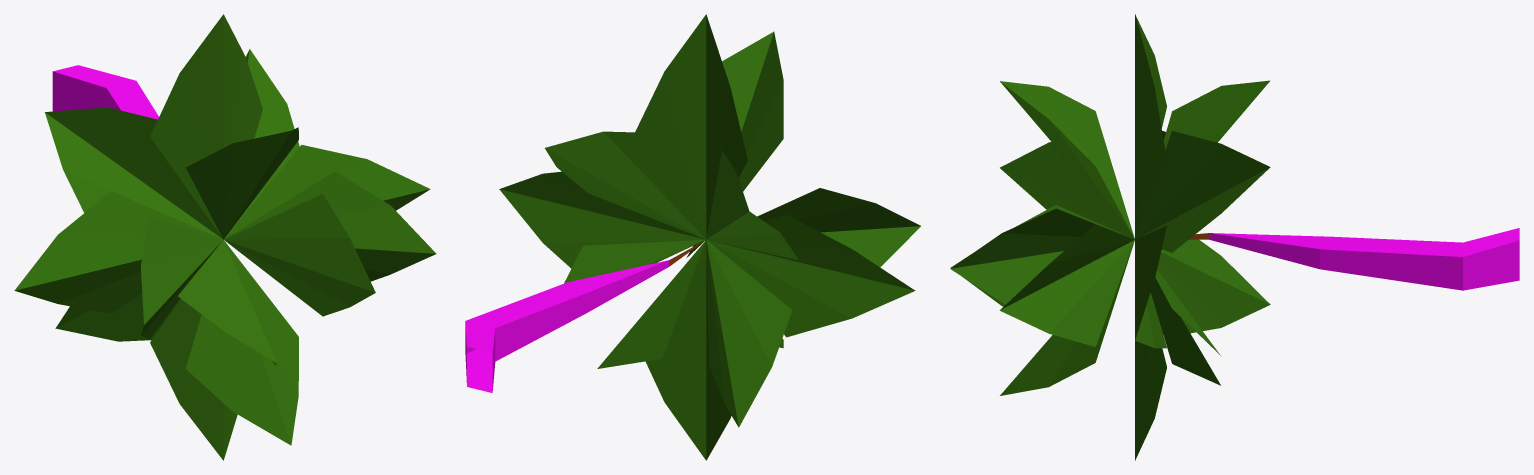
File: exhaustedpalm2.obj
The picture shows the model from 3 angles, left to right: view 1: azimuth 30°, elevation 25°; view 2: azimuth 150°, elevation 25°; view 3: azimuth 270°, elevation 25°; orthographic projection.
Parts seen in each view (by area): view 1: exhaustedpalm2; view 2: exhaustedpalm2; view 3: exhaustedpalm2.
Boxes of the visible parts, left/top/right/bottom form: exhaustedpalm2: left=14, top=14, right=436, bottom=460; exhaustedpalm2: left=465, top=14, right=920, bottom=460; exhaustedpalm2: left=950, top=14, right=1519, bottom=460.
Size of the model in its own units: 1.95 by 2 by 2.31.
